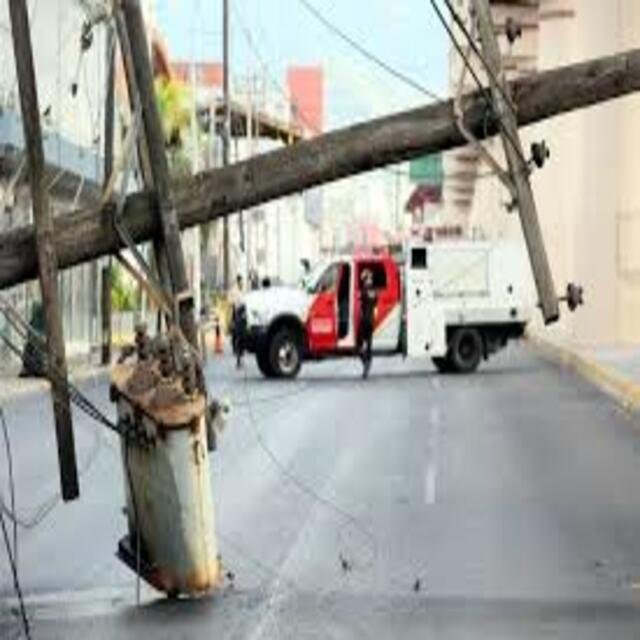Inclined Pole: (0, 0, 640, 607)
